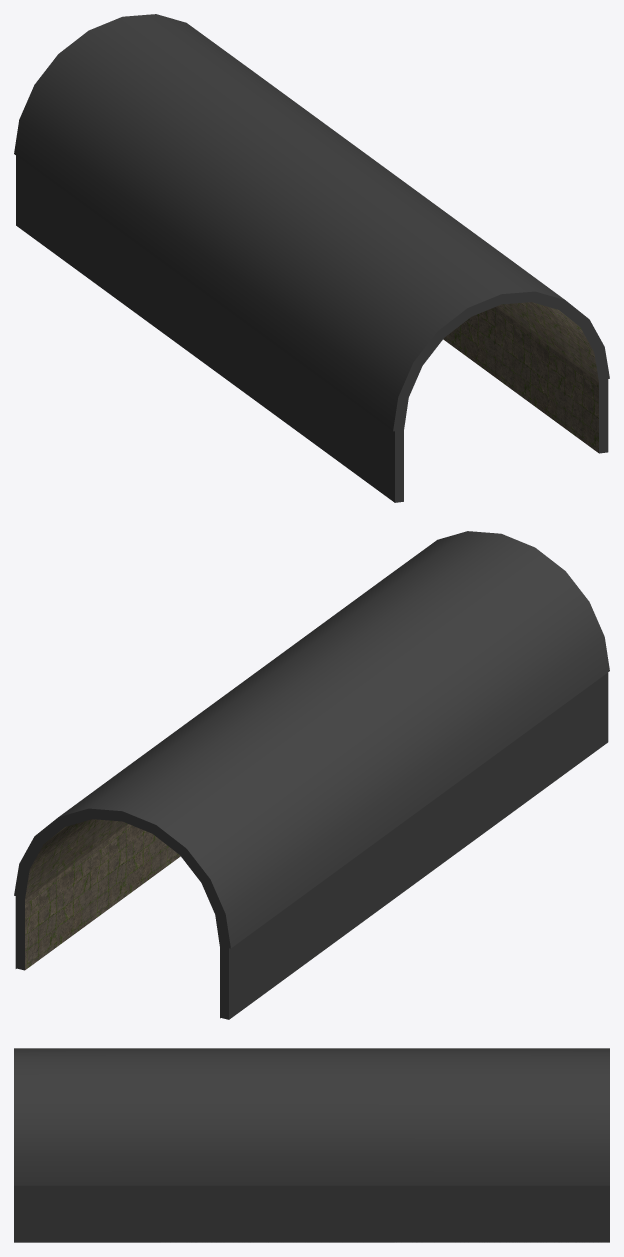
The model's file is ChunkTun0.fbx.
The picture shows the model from 3 angles, top to bottom: view 1: azimuth 30°, elevation 25°; view 2: azimuth 150°, elevation 25°; view 3: azimuth 270°, elevation 25°; orthographic projection. The views are drawn at different scales.
Parts seen in each view (by area): view 1: Tunnel.001; view 2: Tunnel.001; view 3: Tunnel.001.
Part boxes in pixels (x1,y1,x2,y2): Tunnel.001: (14,14,609,502); Tunnel.001: (14,531,609,1019); Tunnel.001: (14,1048,609,1242).
Size of the model in its own units: 342 by 278 by 1035.
